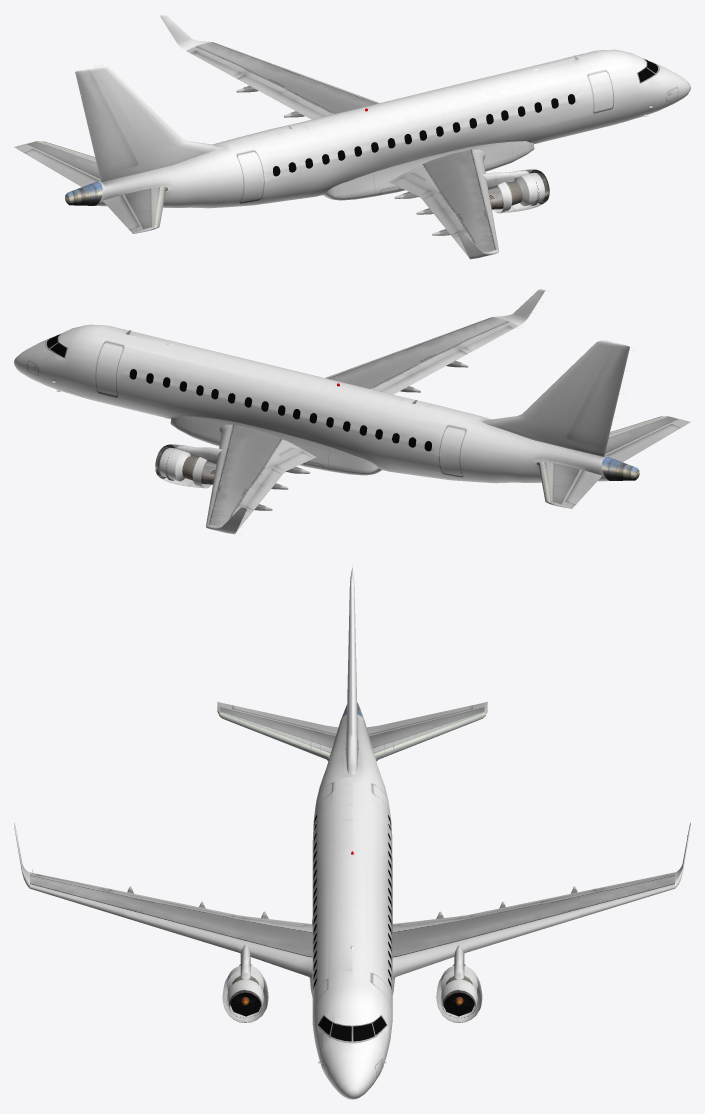
The picture shows the model from 3 angles, top to bottom: view 1: azimuth 30°, elevation 25°; view 2: azimuth 150°, elevation 25°; view 3: azimuth 270°, elevation 25°; orthographic projection. The views are drawn at different scales.
Parts seen in each view (by area): view 1: fuselage.001, vstab, fuselage, rudder, hstab, wing.002, wing.005, wing.003, wing.009, cylinder.003, nacelle, door.r2 (+11 smaller); view 2: fuselage.001, vstab, fuselage, rudder, hstab, wing.003, wing.006, wing.002, wing.008, cylinder.003, nacelle.001, door.l1 (+11 smaller); view 3: fuselage.001, hstab, wing.002, wing.003, wing.006, wing.005, wing.008, wing.009, vstab, nacelle.001, nacelle, cylinder.
Boxes of the visible parts, bbox=[...] form: fuselage.001: bbox=[95, 49, 690, 208]; vstab: bbox=[88, 65, 223, 182]; fuselage: bbox=[323, 141, 534, 200]; rudder: bbox=[69, 68, 136, 175]; hstab: bbox=[14, 141, 167, 233]; wing.002: bbox=[255, 70, 379, 114]; wing.005: bbox=[389, 149, 486, 198]; wing.003: bbox=[421, 177, 493, 226]; wing.009: bbox=[186, 42, 289, 80]; cylinder.003: bbox=[288, 94, 575, 172]; nacelle: bbox=[506, 169, 549, 210]; door.r2: bbox=[237, 150, 264, 201]; fuselage.001: bbox=[14, 324, 609, 483]; vstab: bbox=[482, 340, 617, 456]; fuselage: bbox=[170, 416, 381, 475]; rudder: bbox=[568, 343, 635, 450]; hstab: bbox=[536, 416, 690, 508]; wing.003: bbox=[325, 345, 449, 389]; wing.006: bbox=[218, 424, 315, 473]; wing.002: bbox=[211, 452, 283, 501]; wing.008: bbox=[415, 317, 518, 355]; cylinder.003: bbox=[129, 369, 416, 447]; nacelle.001: bbox=[155, 444, 198, 485]; door.l1: bbox=[96, 342, 124, 395]; fuselage.001: bbox=[312, 715, 392, 1099]; hstab: bbox=[217, 701, 487, 761]; wing.002: bbox=[467, 894, 579, 952]; wing.003: bbox=[125, 894, 237, 952]; wing.006: bbox=[392, 915, 466, 978]; wing.005: bbox=[238, 915, 312, 978]; wing.008: bbox=[30, 872, 124, 917]; wing.009: bbox=[580, 872, 674, 917]; vstab: bbox=[345, 574, 358, 774]; nacelle.001: bbox=[436, 979, 482, 1022]; nacelle: bbox=[222, 979, 268, 1022]; cylinder: bbox=[318, 1016, 386, 1041].
Size of the model in its own units: 30.82 by 9.46 by 25.56.
Materials: 10 (6 with a texture image).
